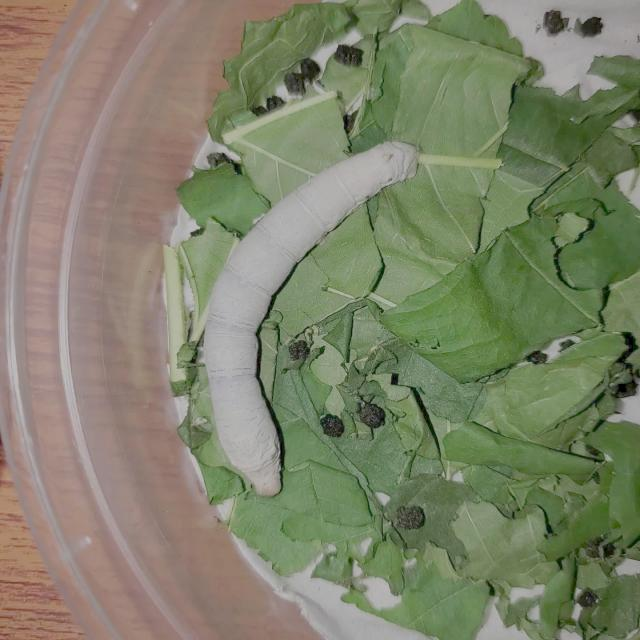Healthy: (180, 120, 434, 514)
